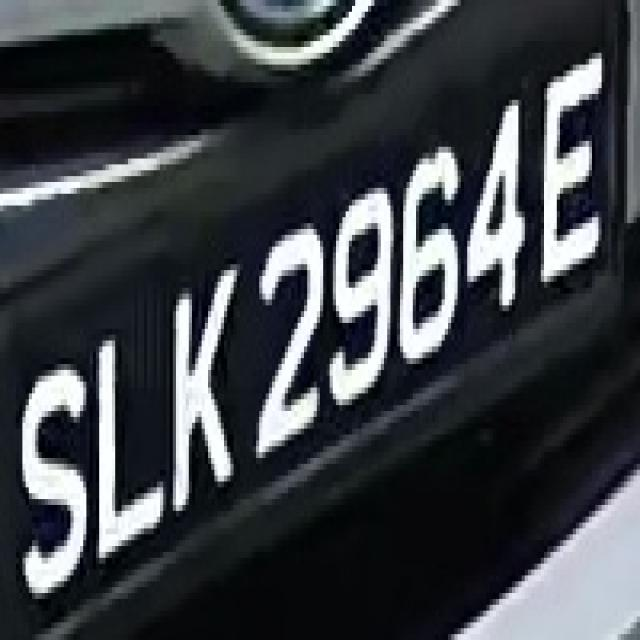2: (250, 211, 332, 464)
4: (448, 53, 531, 317)
6: (387, 135, 467, 393)
9: (320, 153, 400, 417)
E: (541, 23, 614, 294)
K: (163, 235, 240, 528)
L: (86, 305, 176, 564)
S: (6, 334, 90, 616)
